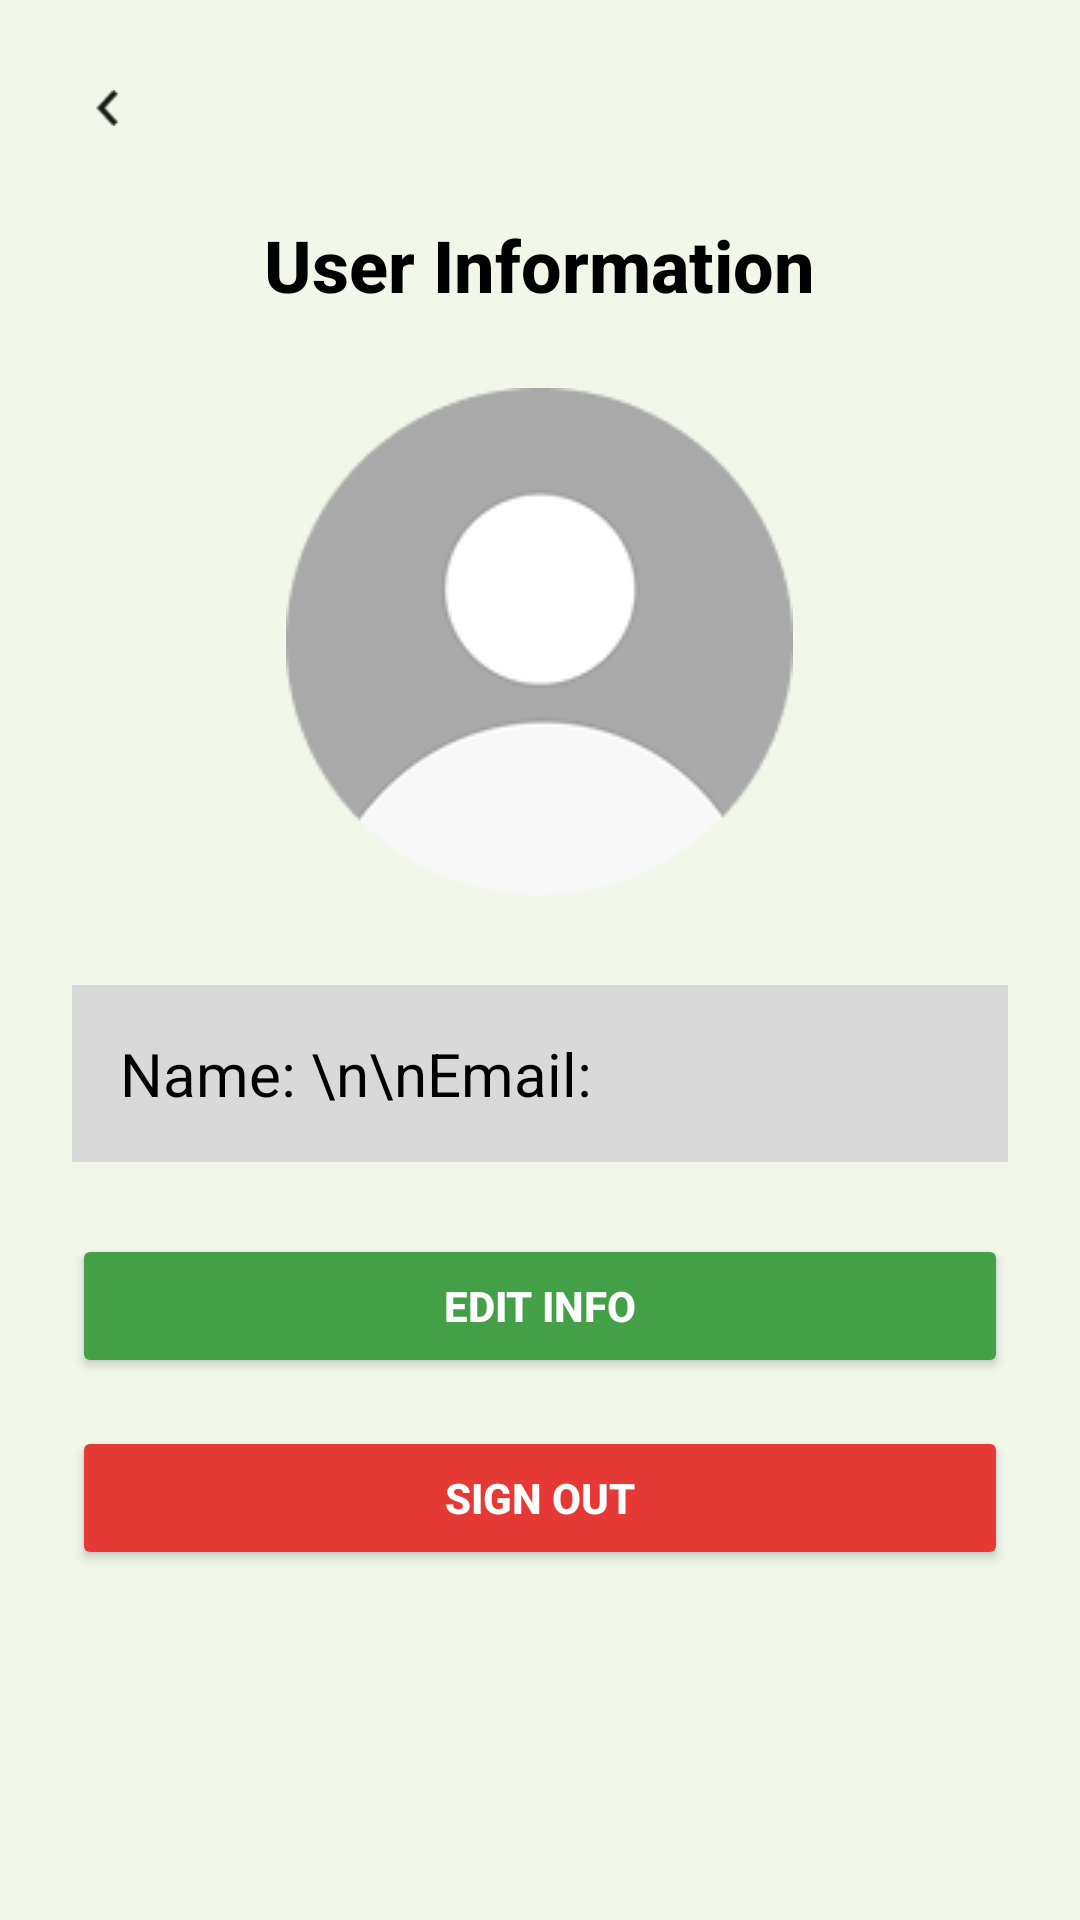

Where to tap for icons on this 1080 × 1920 app screen, as point (x, y):
Back Button: point (107, 108)
